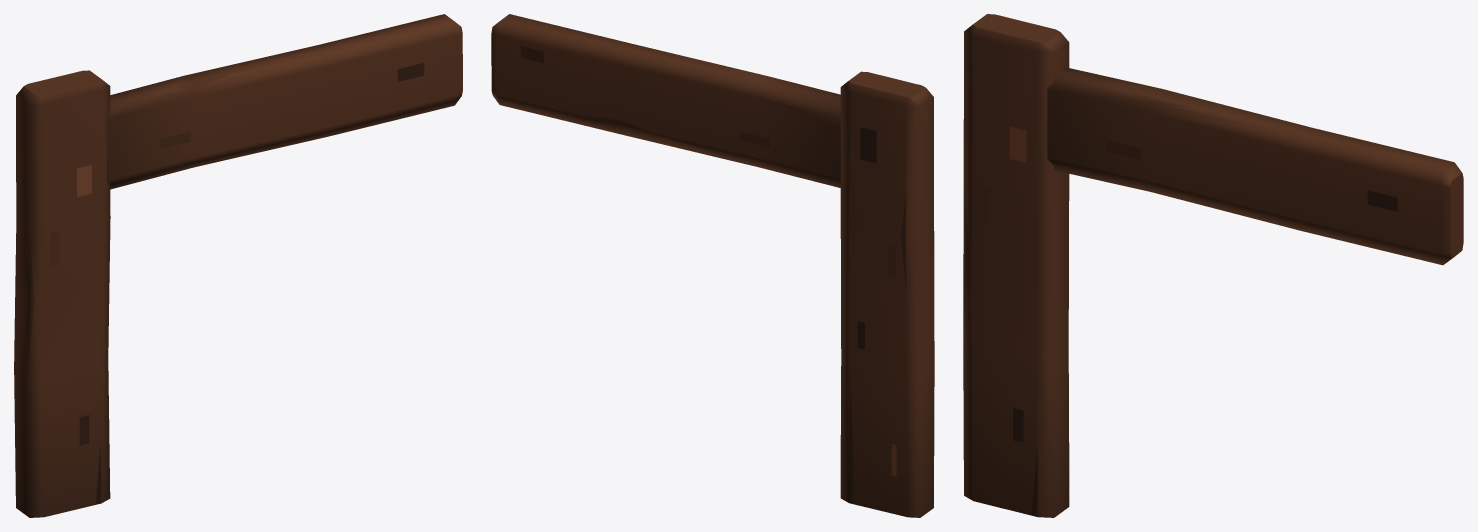
Rendered from FenceModular.fbx.
The picture shows the model from 3 angles, left to right: view 1: azimuth 30°, elevation 25°; view 2: azimuth 150°, elevation 25°; view 3: azimuth 330°, elevation 25°; orthographic projection. The views are drawn at different scales.
Visible parts, largest first — view 1: Fence_Modular; view 2: Fence_Modular; view 3: Fence_Modular.
Boxes of the visible parts, x1,y1,x2,y2 form: Fence_Modular: (14, 14, 462, 517); Fence_Modular: (491, 14, 934, 517); Fence_Modular: (963, 14, 1463, 517).
Bounding box in the file's own units: 3.29 × 3.04 × 0.2849.
